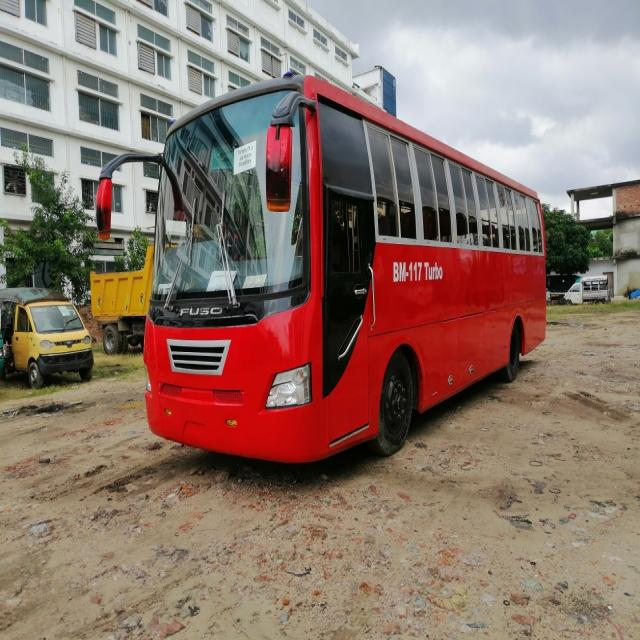bus: (45, 37, 578, 498)
